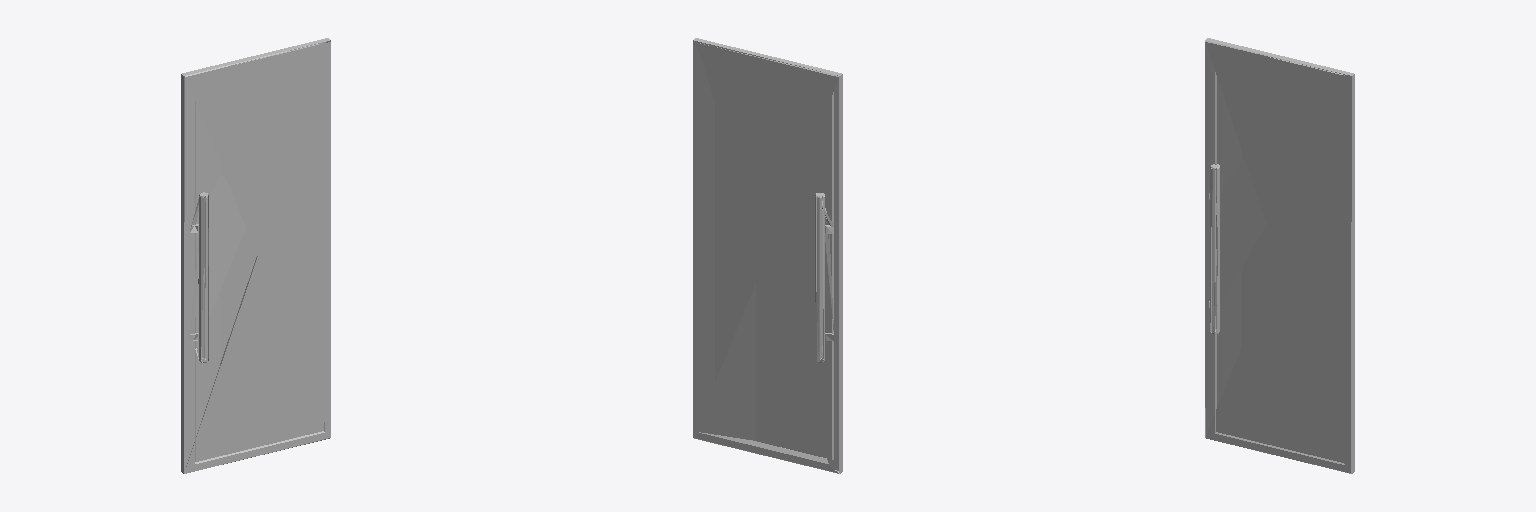
Rendered from ASDAS.obj.
The picture shows the model from 3 angles: view 1: azimuth 30°, elevation 25°; view 2: azimuth 150°, elevation 25°; view 3: azimuth 330°, elevation 25°; orthographic projection.
Parts seen in each view (by area): view 1: Door_1; view 2: Door_1; view 3: Door_1.
Boxes of the visible parts, x1=… form: Door_1: x1=181, y1=38, x2=330, y2=473; Door_1: x1=693, y1=38, x2=842, y2=473; Door_1: x1=1205, y1=38, x2=1354, y2=473.
Size of the model in its own units: 1.12 by 2.9 by 0.2317.